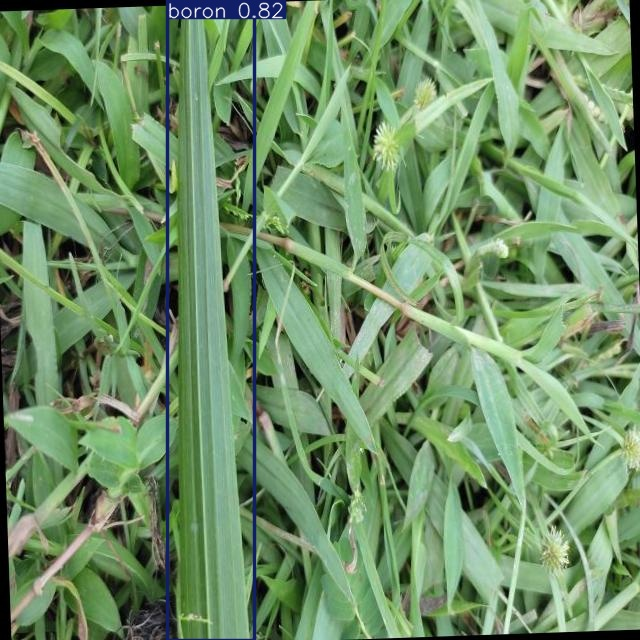nitrogen: (167, 1, 255, 640)
